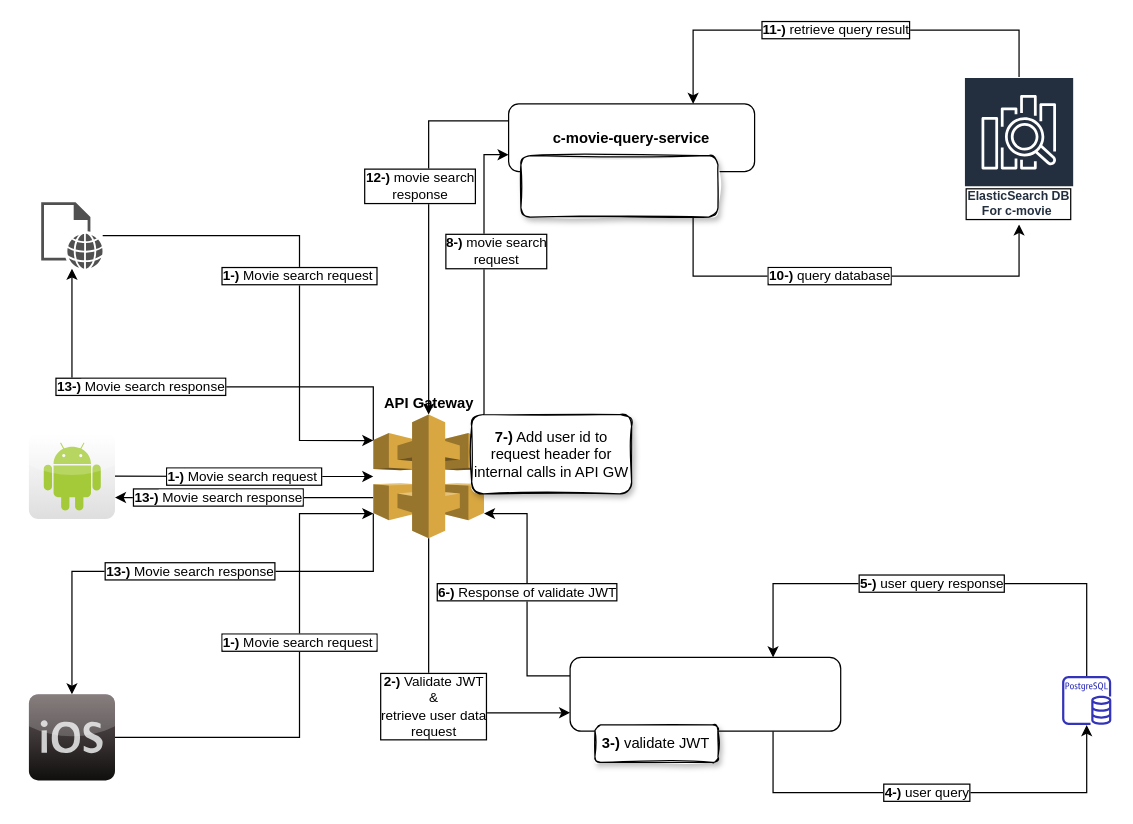
This 1133x824 diagram has some shape labels left out. The centre of each missing label's shape, as x and y in pixels:
9-) prepare dynamic query with premium user's platforms and weights: the point at 620,187
c-movie- iam-service (Keycloak) (Authentication & Authorization): the point at 705,693
end-user web application: the point at 71,235
